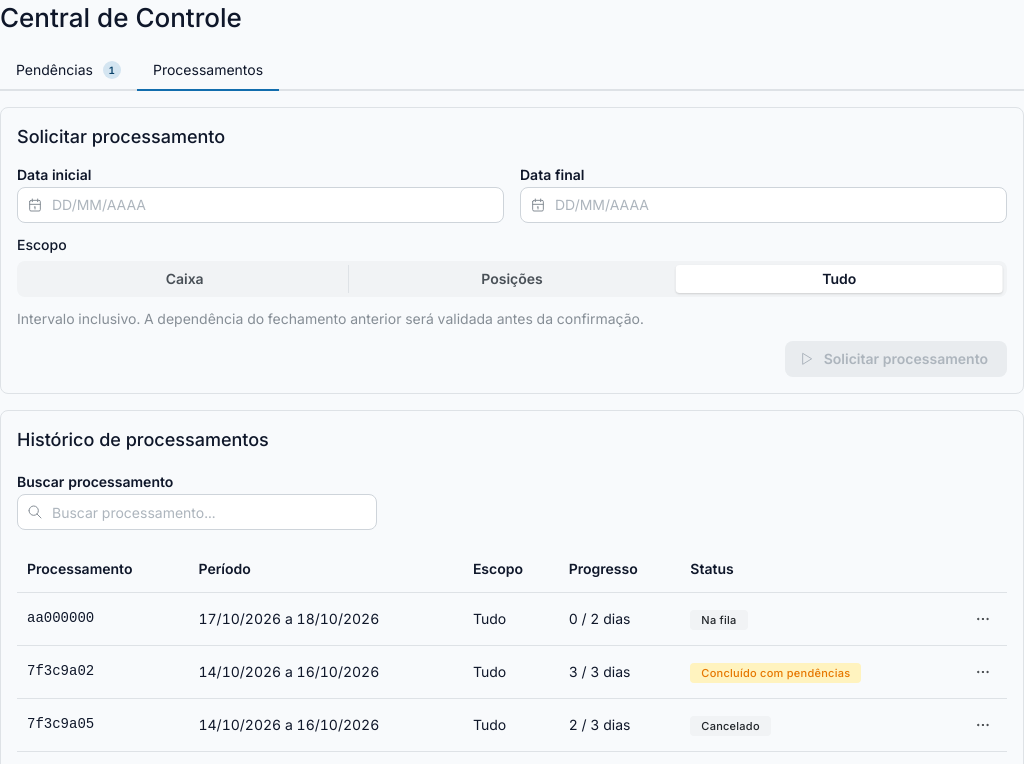
Test: Processamentos: cancel (§10.2) › OQ-15 shows the 409 message when the job can no longer be cancelled
Click the button named "Ações do processamento": (983, 619) [969,605,997,633]
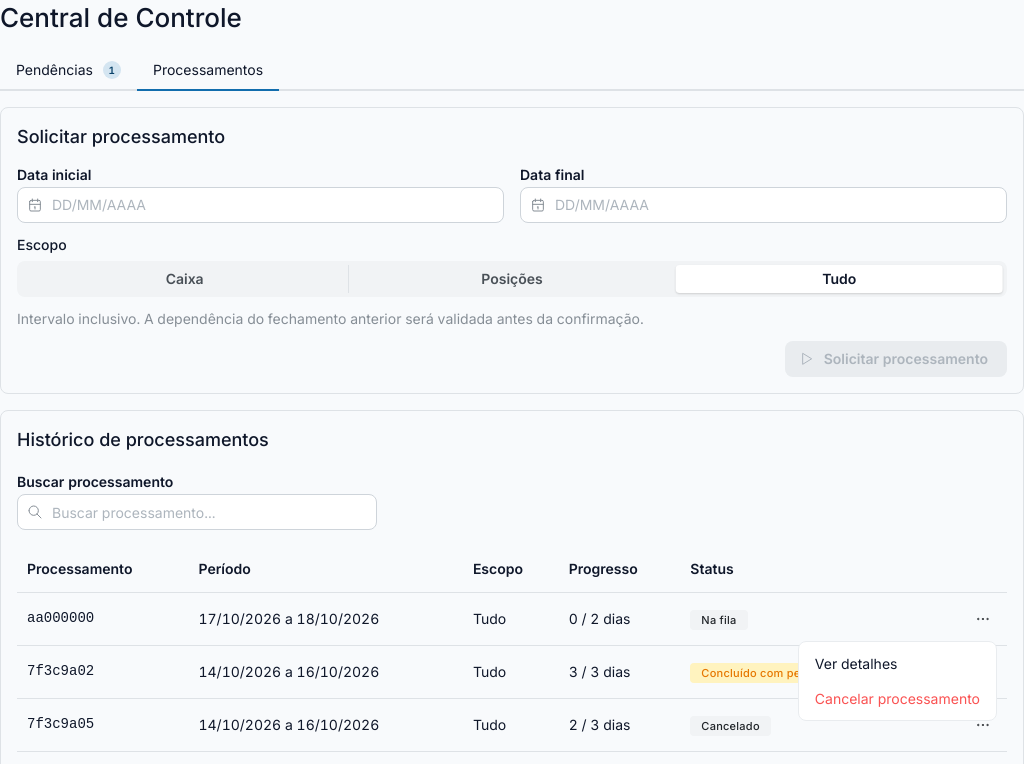
Click the menu item "Cancelar processamento": (897, 698) [803,681,992,716]
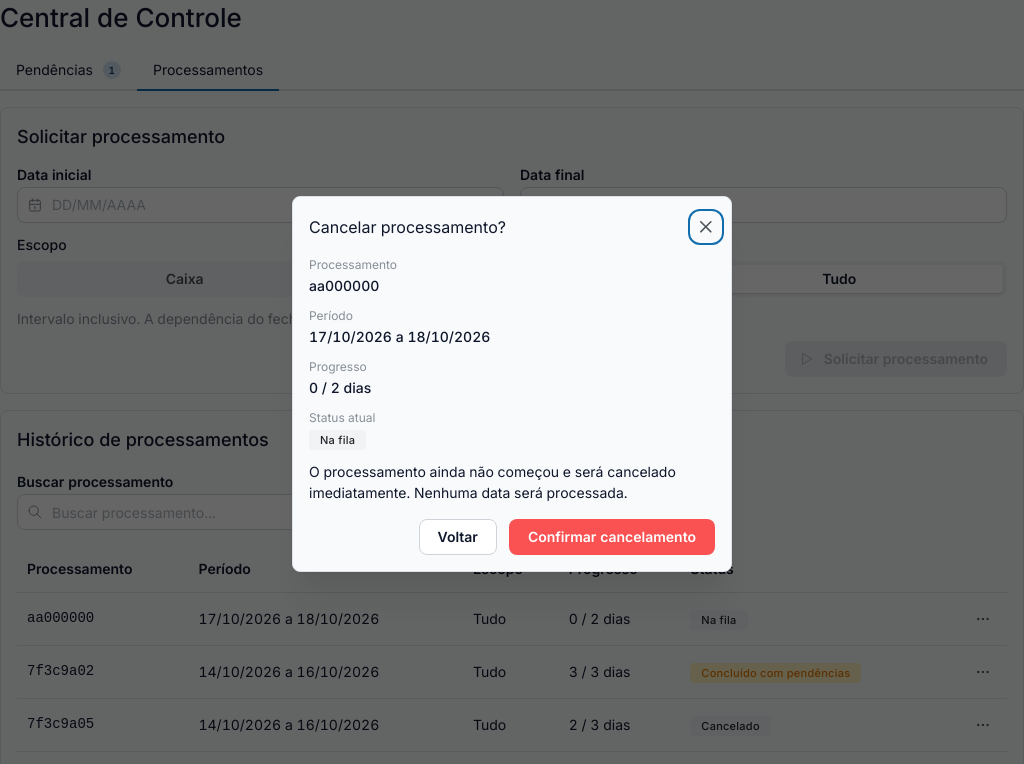
Click the button "Confirmar cancelamento": (612, 537) [509,519,715,555]
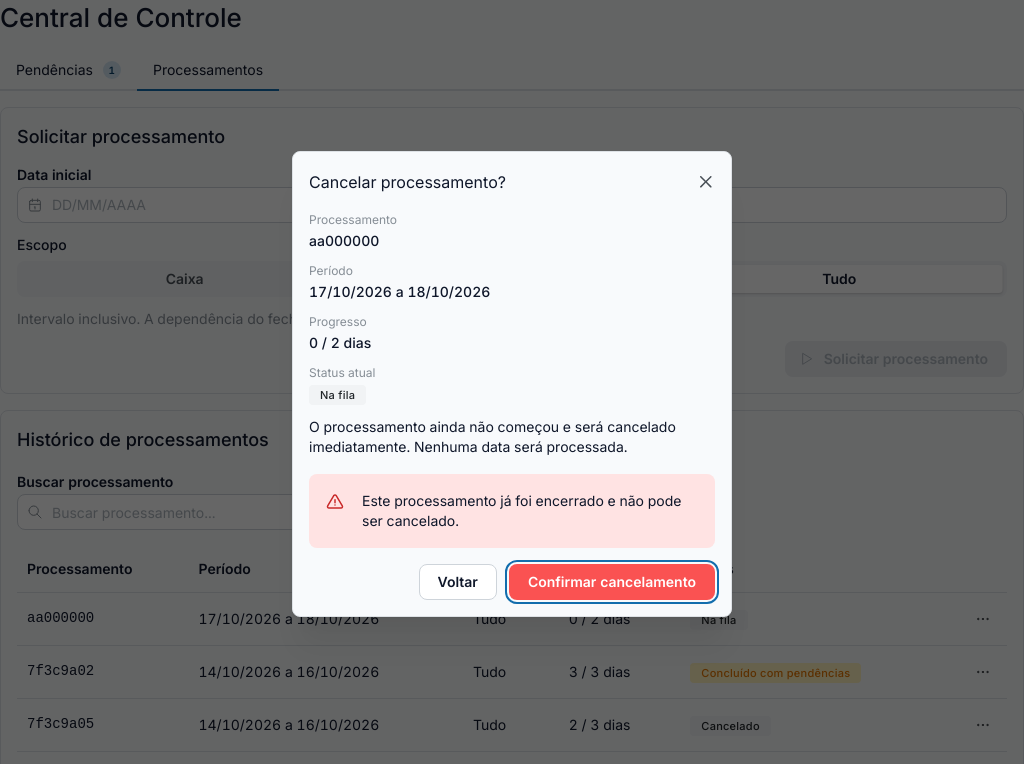
Expected: the message reads "Este processamento já foi encerrado e não pode ser cancelado.", [362,492,682,529]
